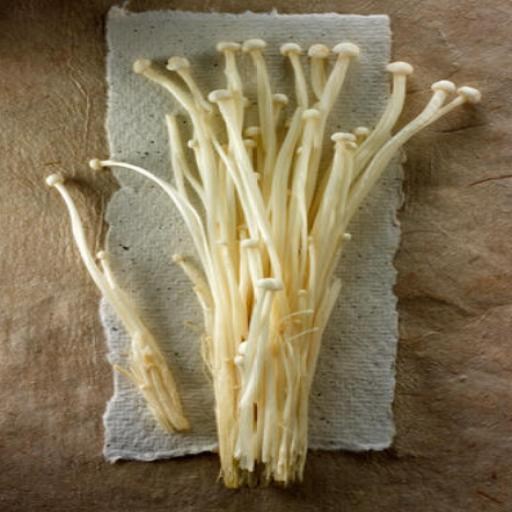Enoki Mushroom: (119, 28, 505, 489), (39, 170, 202, 455)
